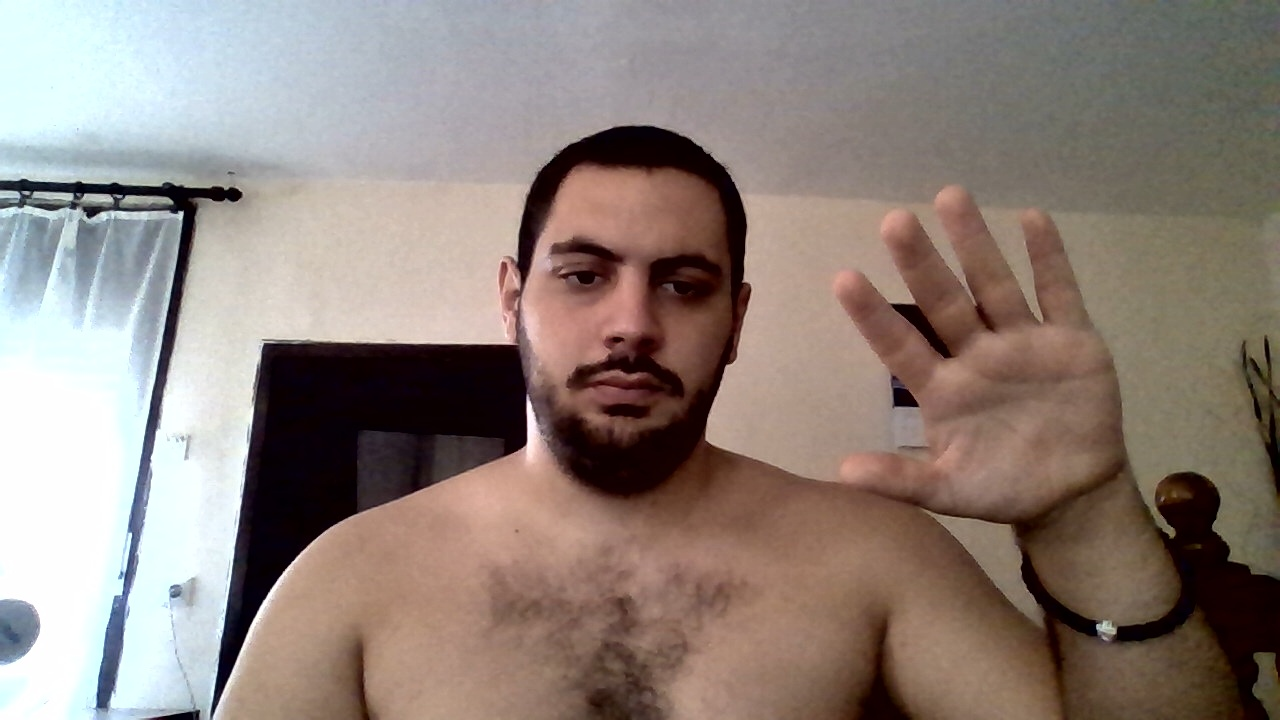palm: (836, 195, 1124, 522)
